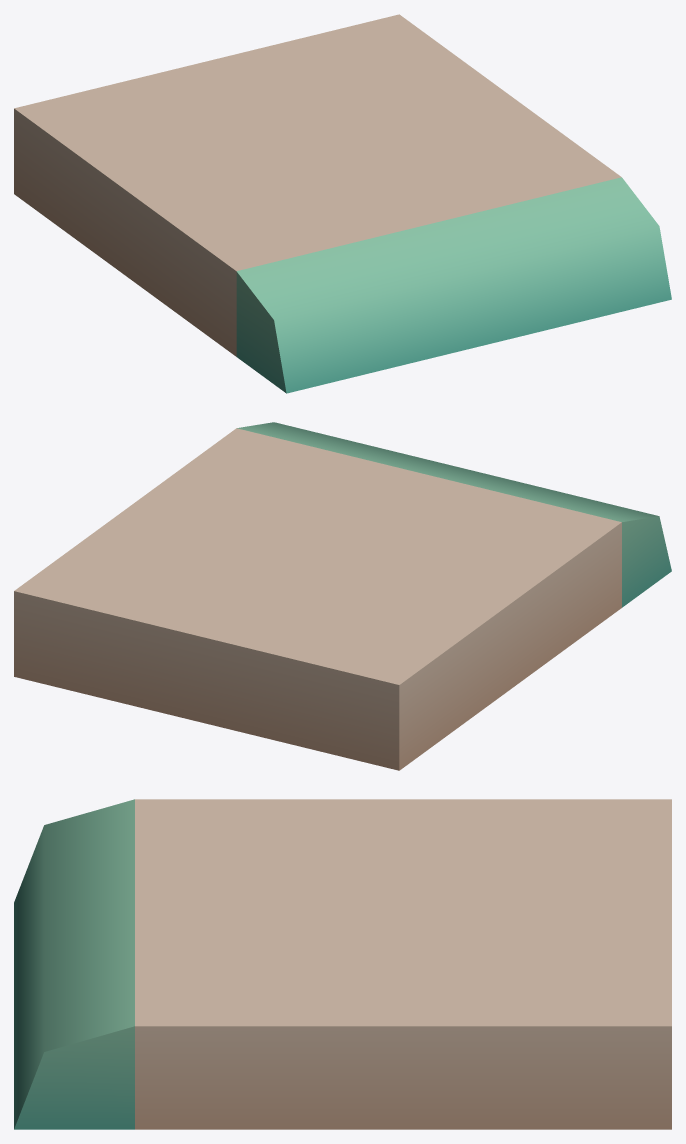
The model's file is roof-flat-awning-b.glb.
The picture shows the model from 3 angles, top to bottom: view 1: azimuth 30°, elevation 25°; view 2: azimuth 150°, elevation 25°; view 3: azimuth 270°, elevation 25°; orthographic projection. The views are drawn at different scales.
Parts seen in each view (by area): view 1: roof-flat-awning-b; view 2: roof-flat-awning-b; view 3: roof-flat-awning-b.
Part boxes in pixels (left/top/right/bottom): roof-flat-awning-b: left=14, top=14, right=671, bottom=393; roof-flat-awning-b: left=14, top=422, right=671, bottom=770; roof-flat-awning-b: left=14, top=799, right=671, bottom=1129.
Bounding box in the file's own units: 1 × 0.2125 × 1.23.
